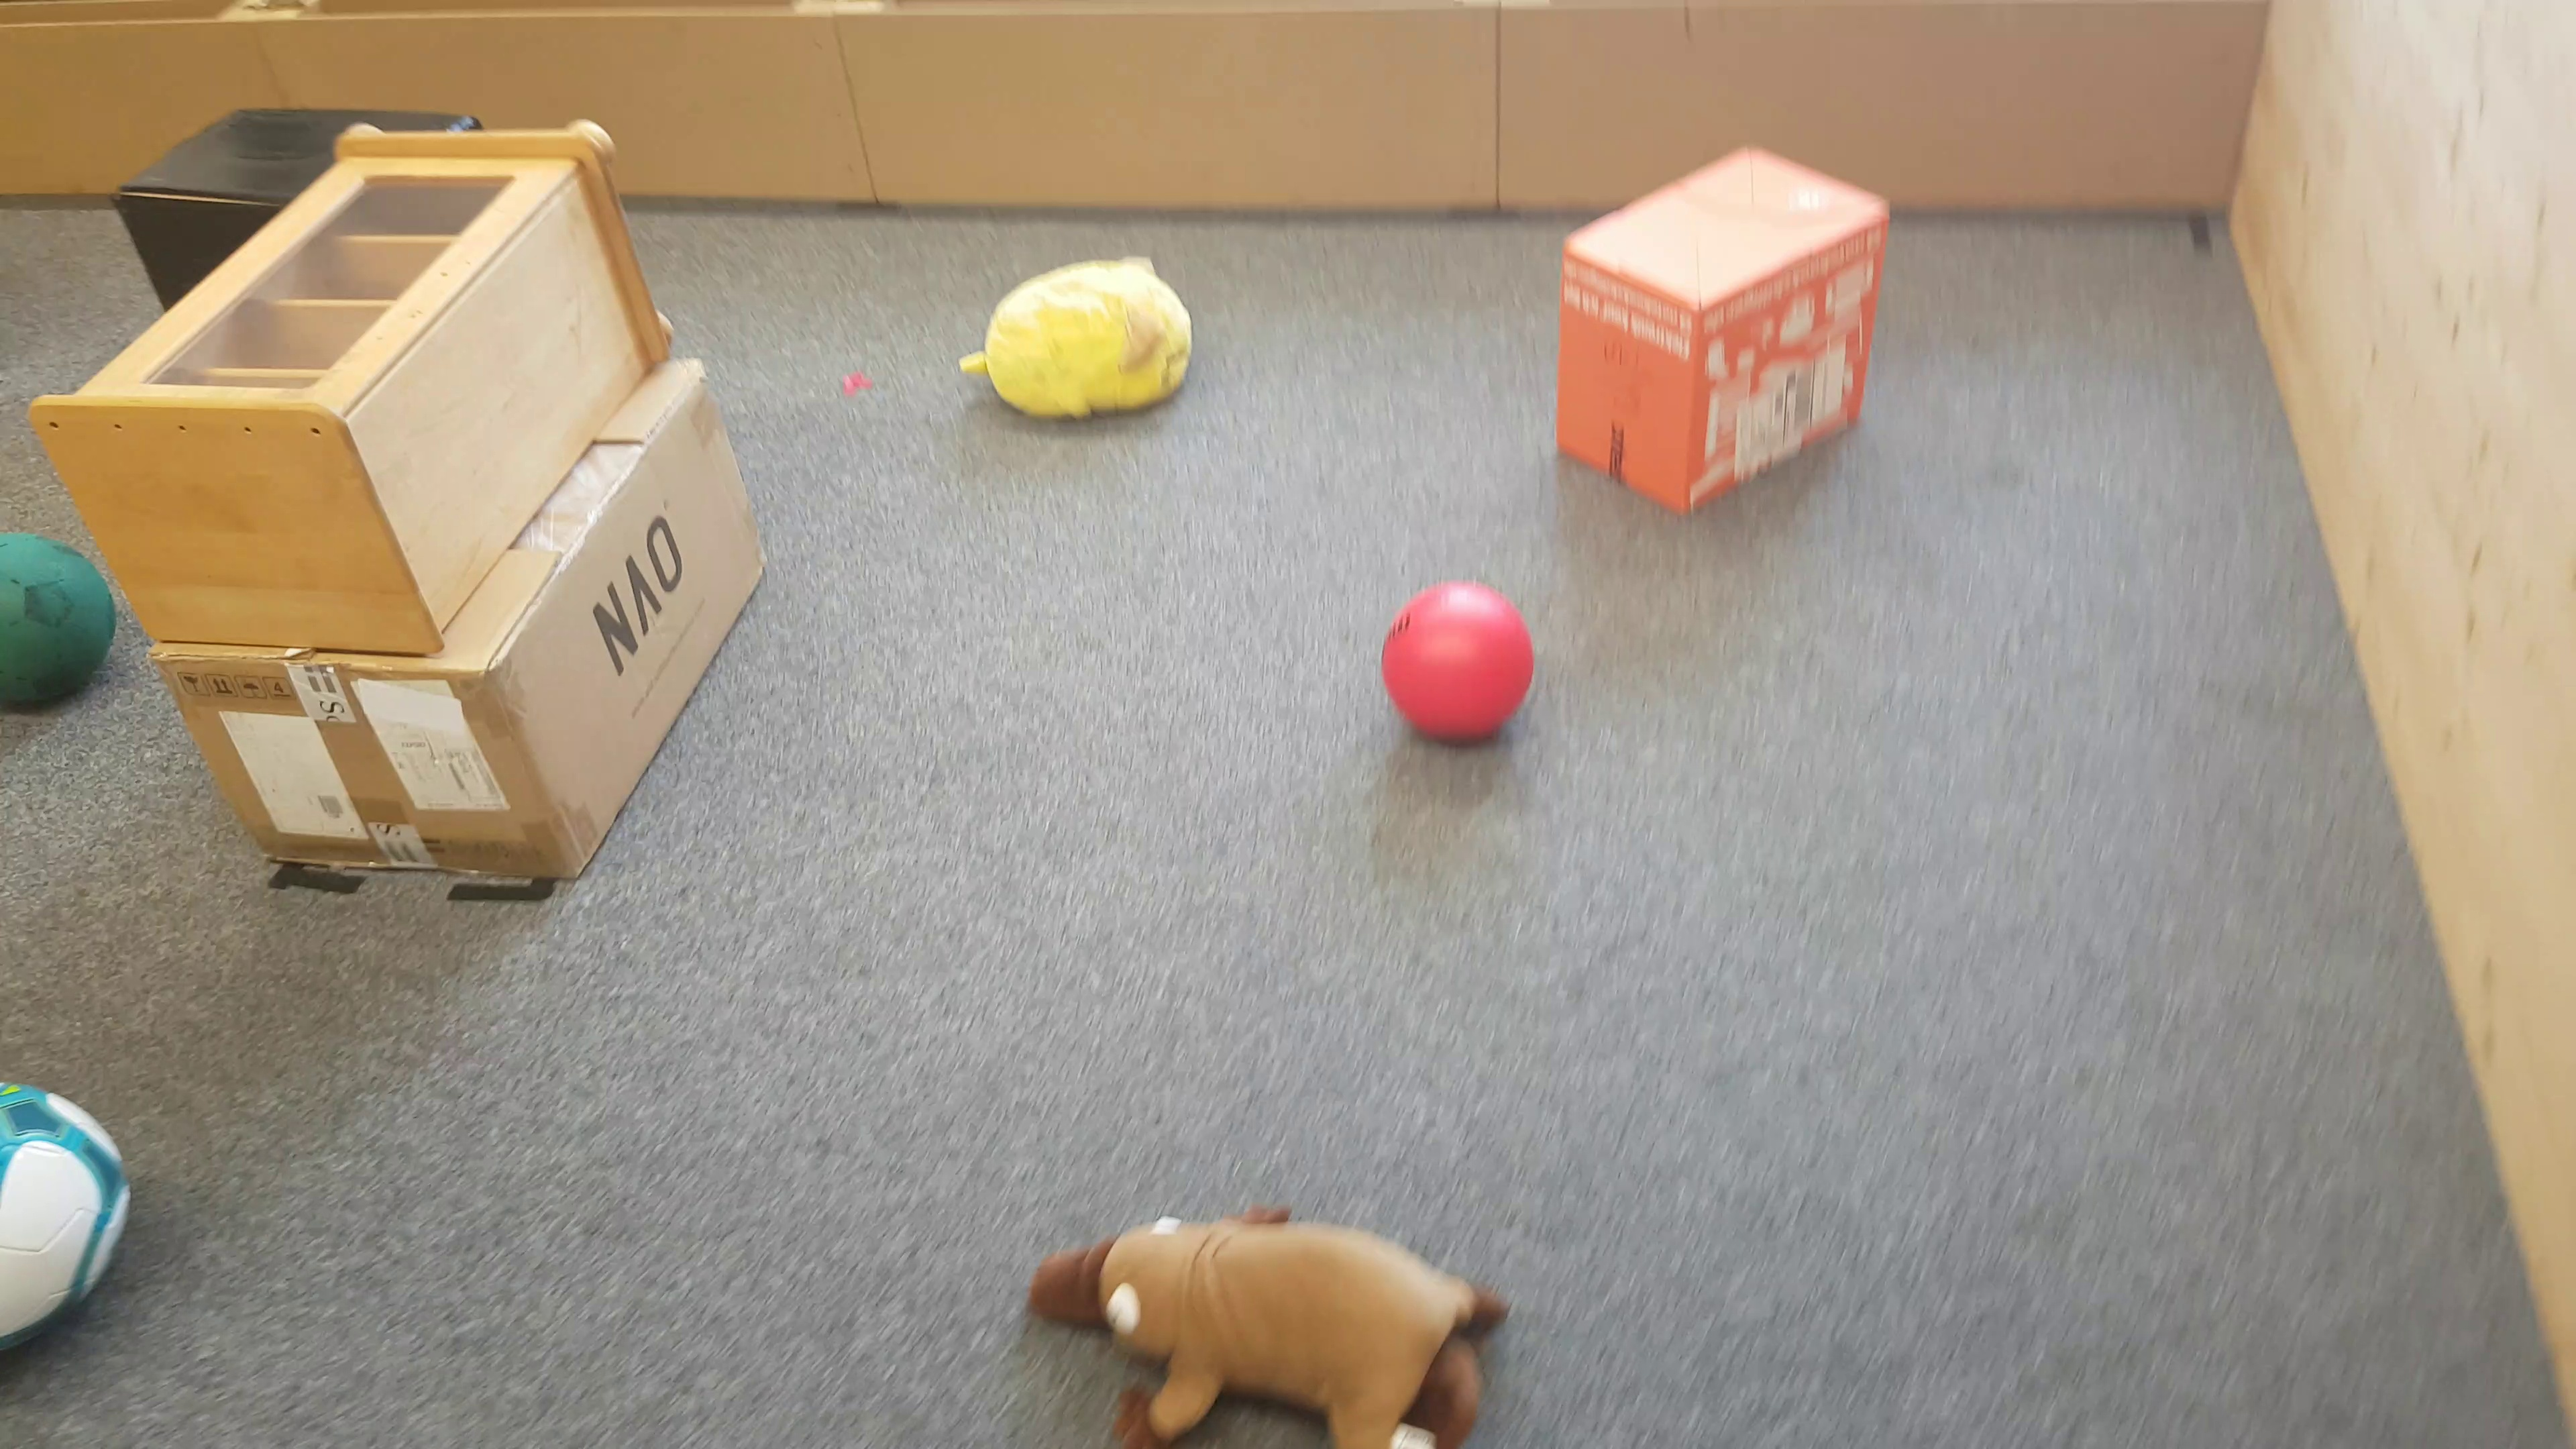grasp: (1028, 1210, 1511, 1449), (961, 257, 1187, 428)
kick: (4, 1085, 129, 1336), (1384, 580, 1534, 741), (2, 529, 111, 734)
push: (1560, 145, 1895, 513), (117, 104, 281, 216)
